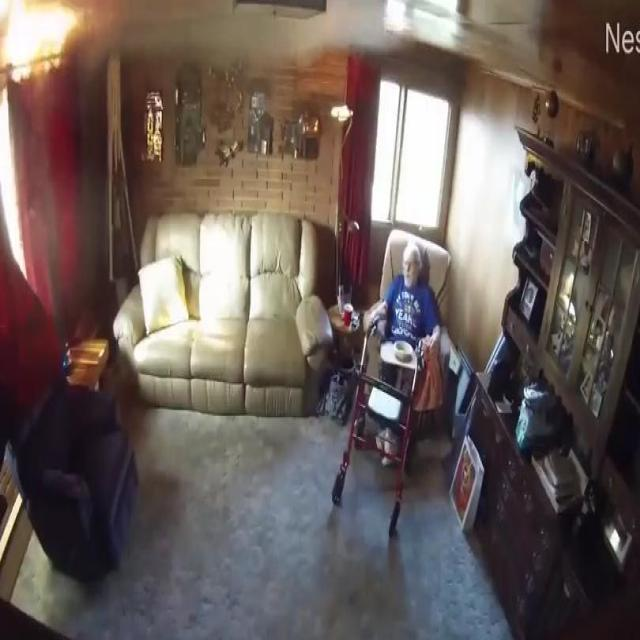fire: (108, 0, 409, 70)
smoke: (4, 4, 75, 85)
